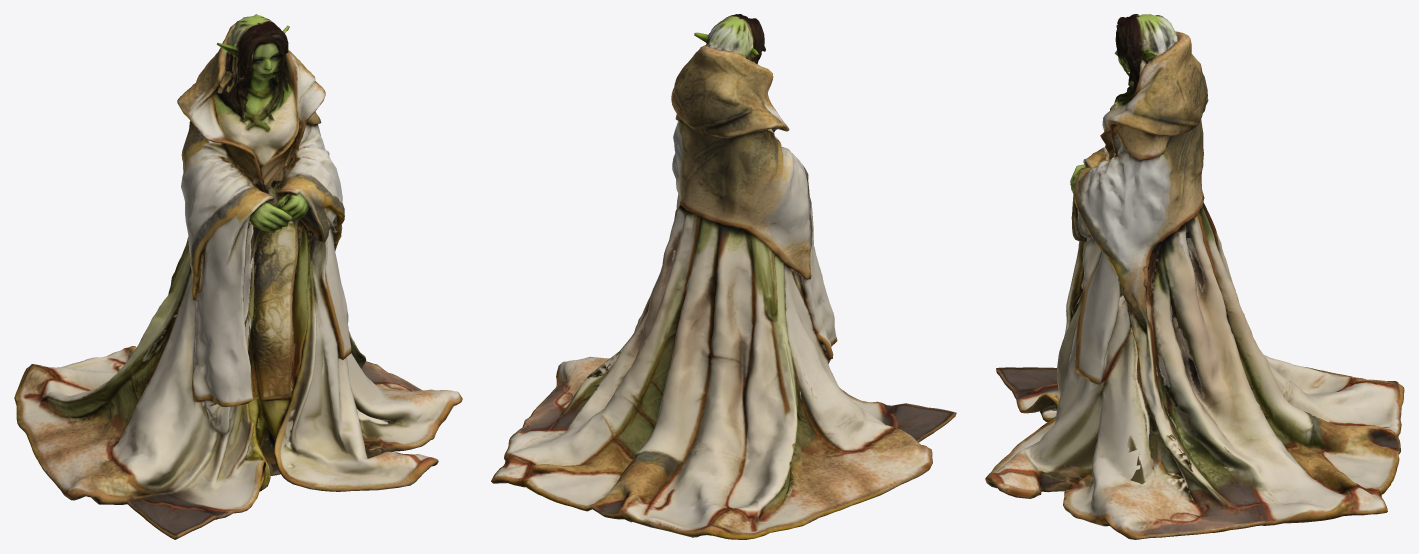
The model's file is lina.glb.
The picture shows the model from 3 angles, left to right: view 1: azimuth 30°, elevation 25°; view 2: azimuth 150°, elevation 25°; view 3: azimuth 270°, elevation 25°; orthographic projection. The views are drawn at different scales.
Visible parts, largest first — view 1: Mesh1.0; view 2: Mesh1.0; view 3: Mesh1.0.
Boxes of the visible parts, bbox=[...] form: Mesh1.0: bbox=[14, 14, 462, 539]; Mesh1.0: bbox=[491, 14, 956, 539]; Mesh1.0: bbox=[985, 14, 1404, 539].
Size of the model in its own units: 1.63 by 1.7 by 1.5.
Materials: 1 (1 with a texture image).
